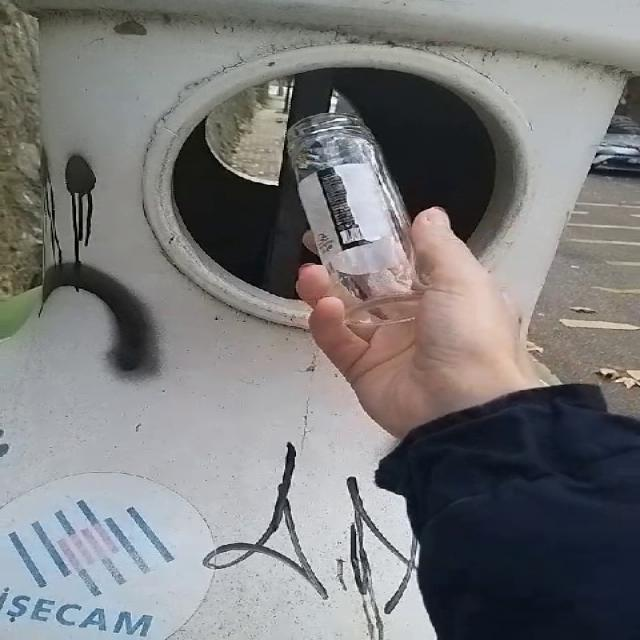glass: (287, 111, 425, 339)
